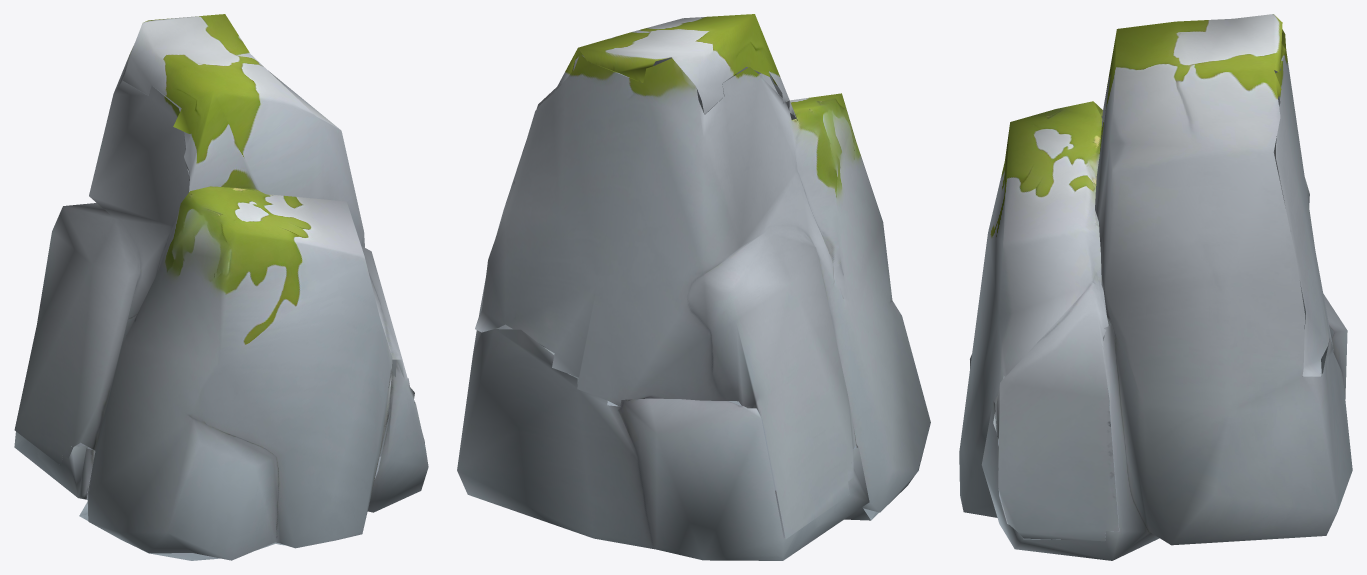
3 renders of one model, left to right at view 1: azimuth 30°, elevation 25°; view 2: azimuth 150°, elevation 25°; view 3: azimuth 270°, elevation 25°, orthographic. The views are drawn at different scales.
Visible parts, largest first — view 1: quad; view 2: quad; view 3: quad.
Part boxes in pixels (x1=…): quad: x1=14, y1=14, x2=428, y2=560; quad: x1=457, y1=14, x2=930, y2=560; quad: x1=959, y1=14, x2=1352, y2=560.
Size of the model in its own units: 189 by 250 by 195.
Materials: 1 (1 with a texture image).
